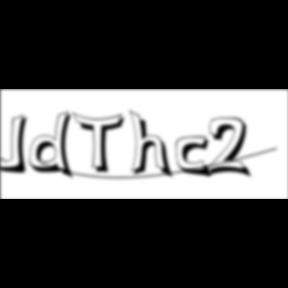2: (206, 117, 256, 181)
J: (0, 114, 34, 176)
T: (72, 112, 130, 176)
c: (177, 136, 217, 180)
d: (29, 110, 79, 182)
h: (130, 108, 176, 182)
